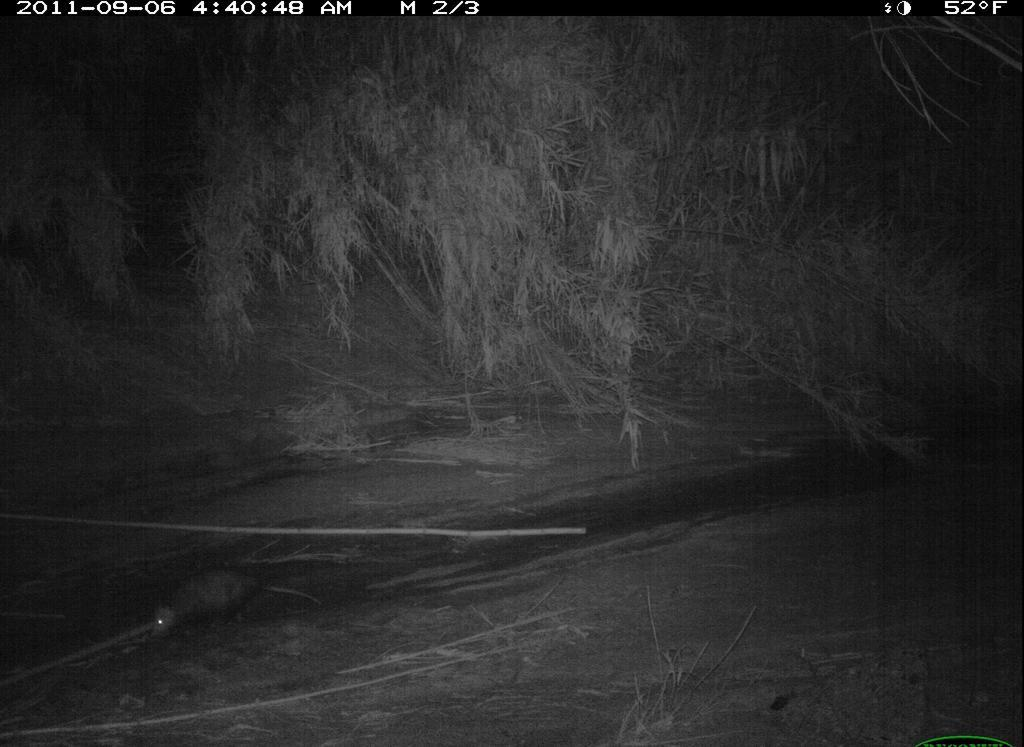opossum: (132, 557, 331, 653)
